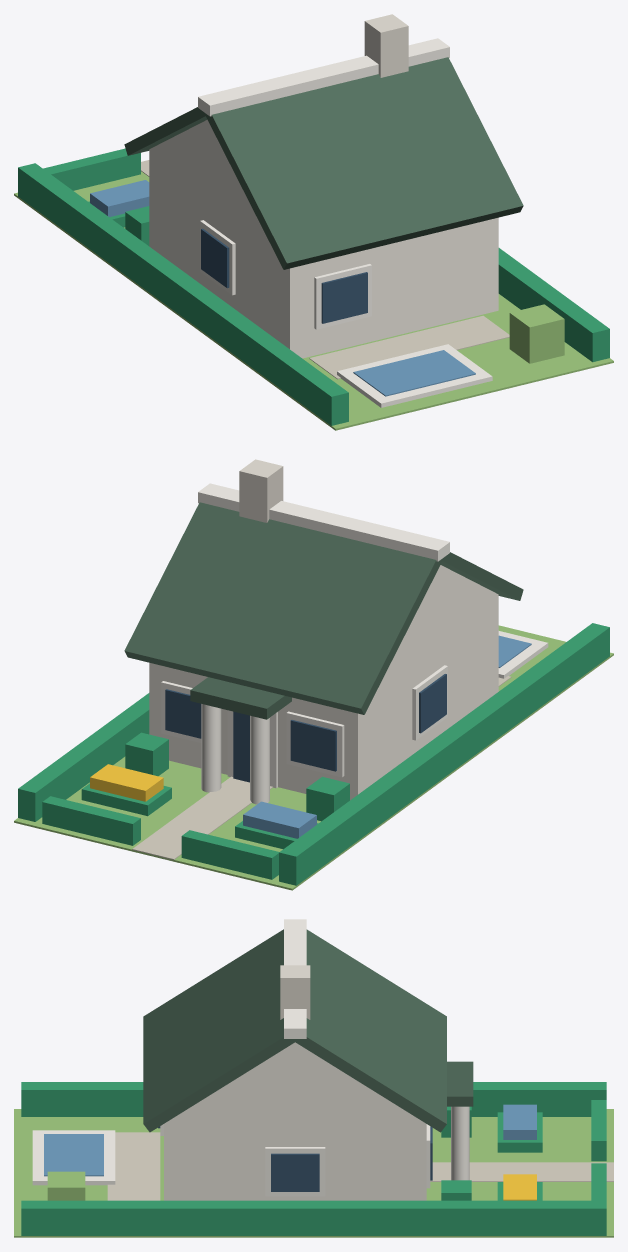
The picture shows the model from 3 angles, top to bottom: view 1: azimuth 30°, elevation 25°; view 2: azimuth 150°, elevation 25°; view 3: azimuth 270°, elevation 25°; orthographic projection. The views are drawn at different scales.
Visible parts, largest first — view 1: roof (×2), house, hedge (×3), lawn, ridge, gable, terrace, window_glass (×2), pool, tree_spot, pool_kerb, chimney (+3 smaller); view 2: roof (×2), hedge (×4), house, lawn, ridge, window_glass (×3), gable, flower_bed (×2), path, column (×2), clipped_hedge (×2), window_frame (×3) (+7 smaller); view 3: roof (×2), hedge (×4), house, lawn, gable, terrace, path, pool, flower_bed (×2), window_glass, pool_kerb, ridge (+7 smaller).
Part boxes in pixels (bbox=[...]): roof (×2): bbox=[124, 57, 523, 269]; house: bbox=[149, 149, 498, 358]; hedge (×3): bbox=[18, 148, 609, 425]; lawn: bbox=[14, 171, 613, 430]; ridge: bbox=[198, 38, 449, 116]; gable: bbox=[149, 119, 264, 233]; terrace: bbox=[309, 315, 509, 379]; window_glass (×2): bbox=[201, 228, 367, 323]; pool: bbox=[353, 350, 475, 396]; tree_spot: bbox=[509, 304, 564, 363]; pool_kerb: bbox=[337, 344, 492, 407]; chimney: bbox=[364, 14, 408, 77]; roof (×2): bbox=[124, 502, 523, 714]; hedge (×4): bbox=[18, 623, 609, 885]; house: bbox=[149, 595, 498, 800]; lawn: bbox=[14, 625, 613, 890]; ridge: bbox=[198, 483, 449, 561]; window_glass (×3): bbox=[165, 674, 446, 771]; gable: bbox=[383, 565, 498, 678]; flower_bed (×2): bbox=[90, 764, 316, 838]; path: bbox=[132, 776, 272, 860]; column (×2): bbox=[201, 704, 269, 804]; clipped_hedge (×2): bbox=[125, 732, 349, 821]; window_frame (×3): bbox=[161, 665, 447, 777]; roof (×2): bbox=[143, 929, 446, 1132]; hedge (×4): bbox=[21, 1082, 606, 1235]; house: bbox=[164, 1118, 426, 1200]; lawn: bbox=[14, 1109, 613, 1237]; gable: bbox=[174, 1042, 416, 1117]; terrace: bbox=[107, 1132, 160, 1200]; path: bbox=[430, 1162, 613, 1181]; pool: bbox=[44, 1134, 103, 1176]; flower_bed (×2): bbox=[503, 1104, 536, 1200]; window_glass: bbox=[271, 1153, 319, 1191]; pool_kerb: bbox=[32, 1130, 115, 1185]; ridge: bbox=[284, 919, 306, 1038].
Size of the model in its own units: 8 by 6.8 by 16.
